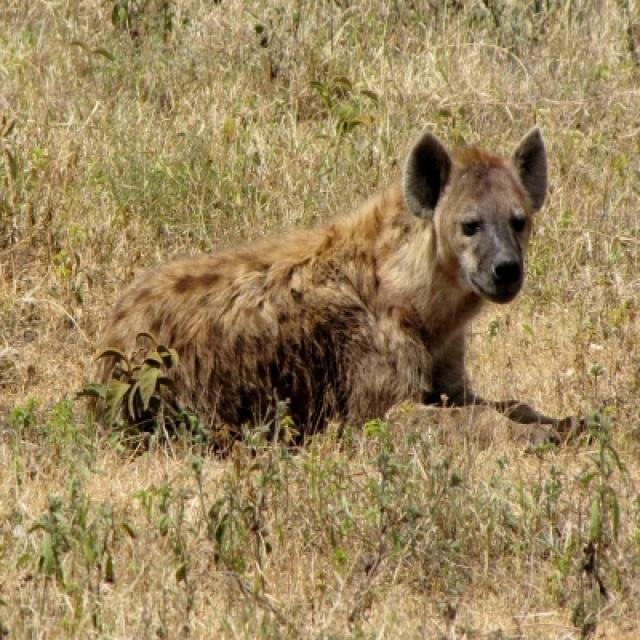hyena: (77, 131, 550, 448)
